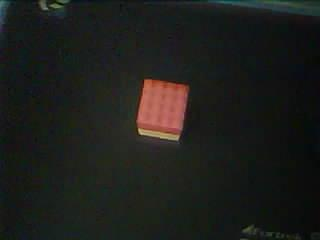lego: (137, 79, 189, 141)
